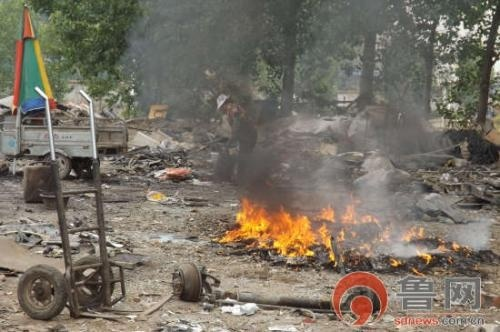fire: (218, 192, 433, 268)
